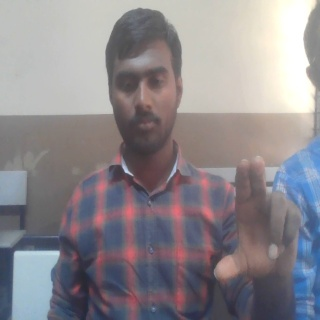Face: (102, 8, 185, 156)
No: (211, 155, 305, 286)
